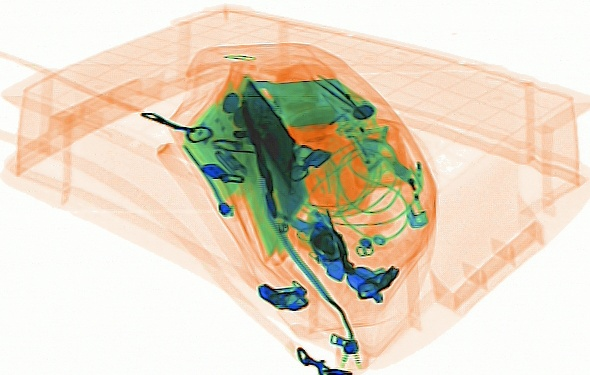lighter: (384, 148, 429, 229)
